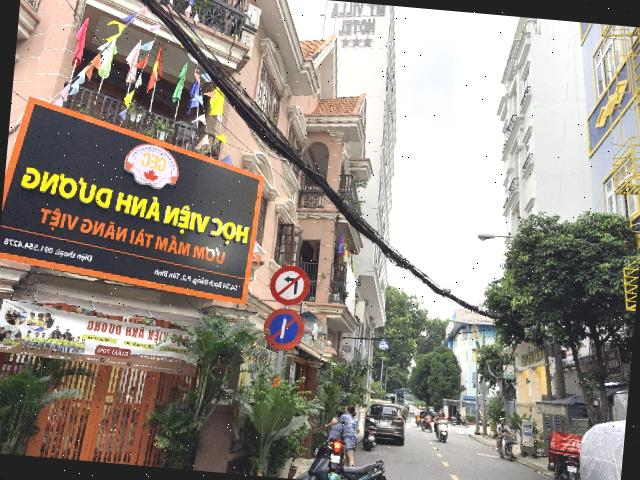cam-do-xe-ngay-le: (261, 305, 305, 352)
cam-re-phai: (268, 262, 311, 306)
